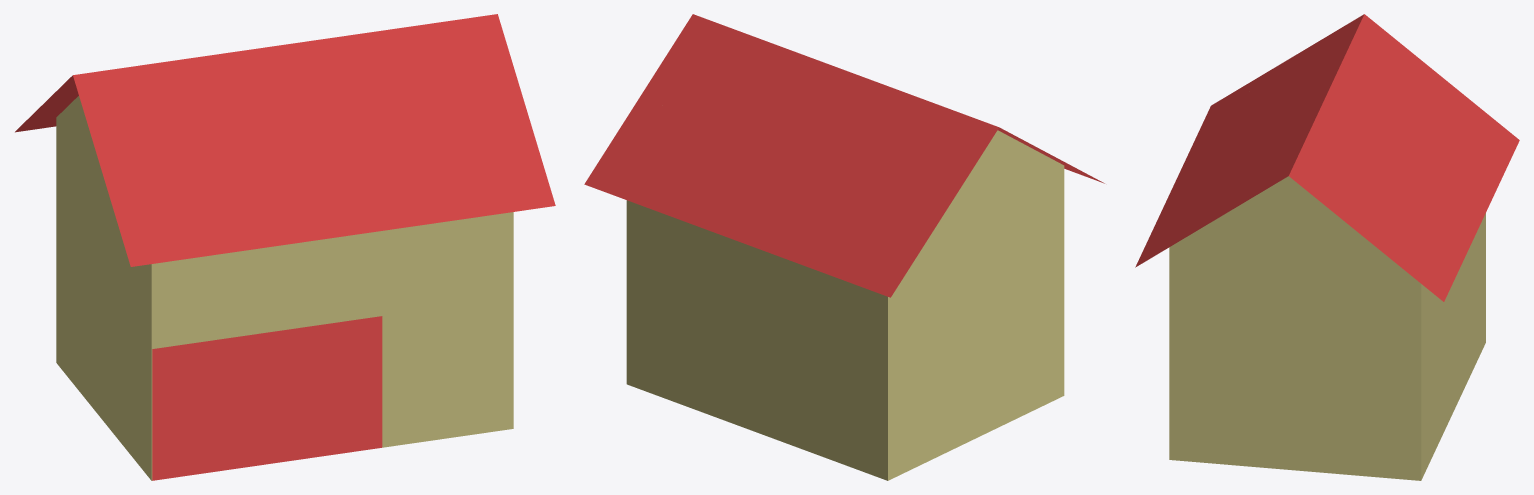
The picture shows the model from 3 angles, left to right: view 1: azimuth 30°, elevation 25°; view 2: azimuth 150°, elevation 25°; view 3: azimuth 270°, elevation 25°; orthographic projection. The views are drawn at different scales.
Bounding box in the file's own units: 15.35 × 13.28 × 11.67.
